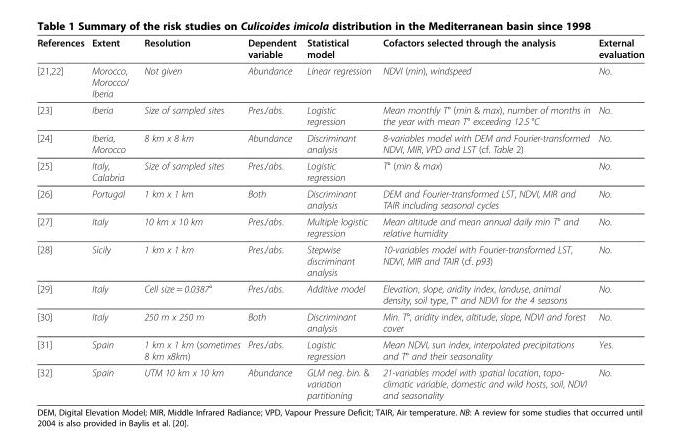table: (36, 36, 643, 400)
table column: (376, 36, 593, 400), (135, 36, 243, 400), (301, 36, 376, 400), (243, 36, 301, 400), (36, 36, 87, 400), (593, 36, 643, 400), (87, 36, 135, 400)
table column header: (36, 36, 643, 62)
table row: (36, 240, 643, 280), (36, 62, 643, 101), (36, 363, 643, 400), (36, 101, 643, 129), (36, 129, 643, 157), (36, 157, 643, 185), (36, 212, 643, 240), (36, 280, 643, 308), (36, 335, 643, 363), (36, 185, 643, 212), (36, 308, 643, 335), (36, 36, 643, 62)
